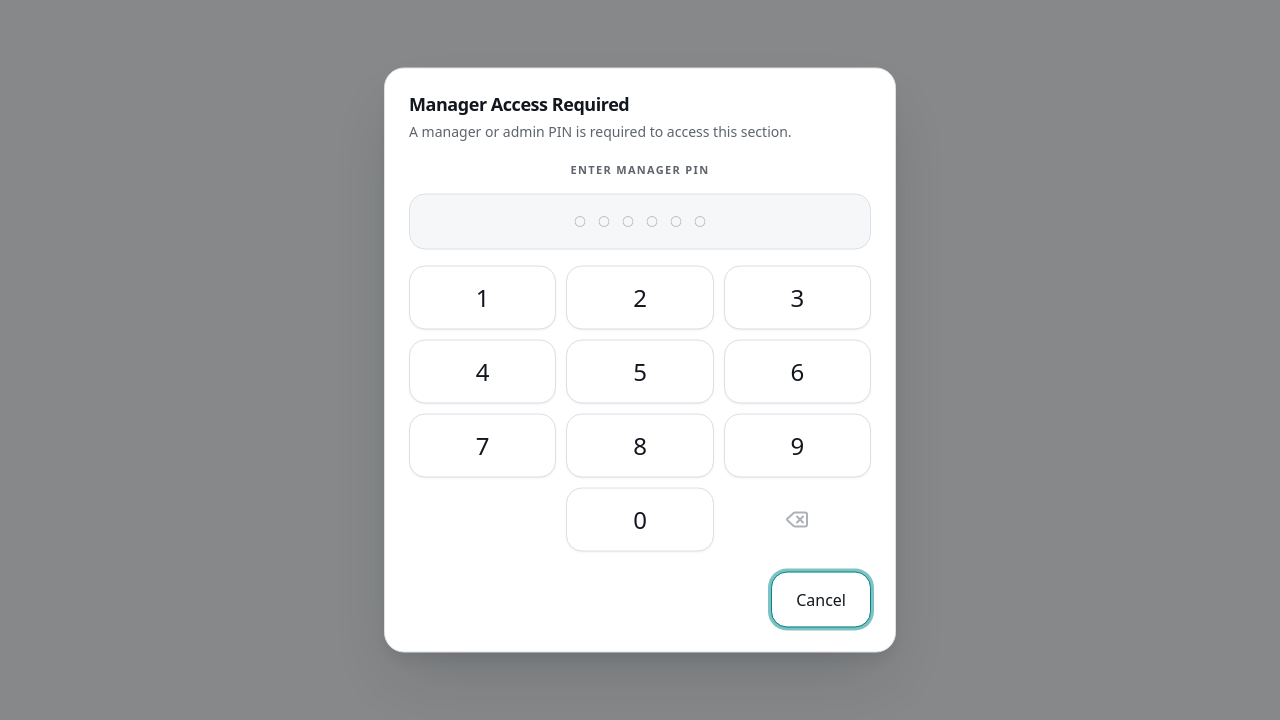
Scenario: ManagerPinDialog › INVALID_PIN with a retry-after already armed shows the lockout message
Click the button named "Key 0": [640, 520] box [566,488,714,552]
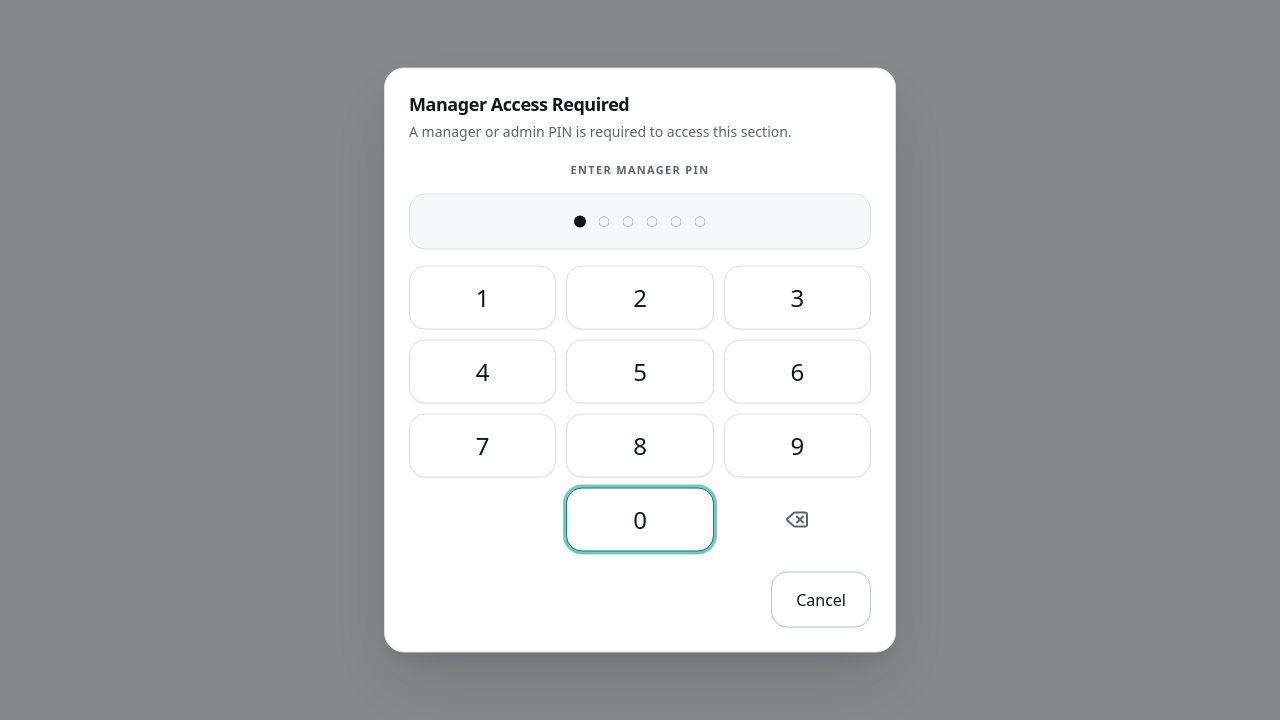
Click the button named "Key 0": [640, 520] box [566,488,714,552]
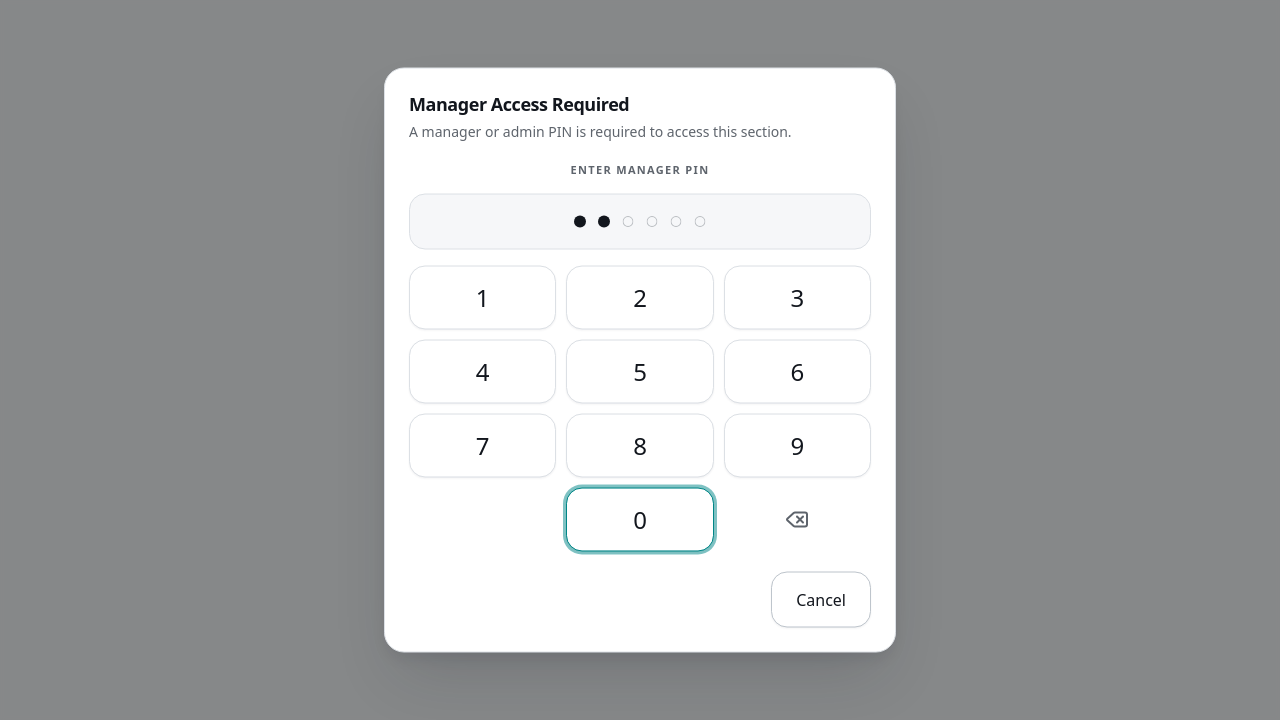
Click the button named "Key 0": [640, 520] box [566,488,714,552]
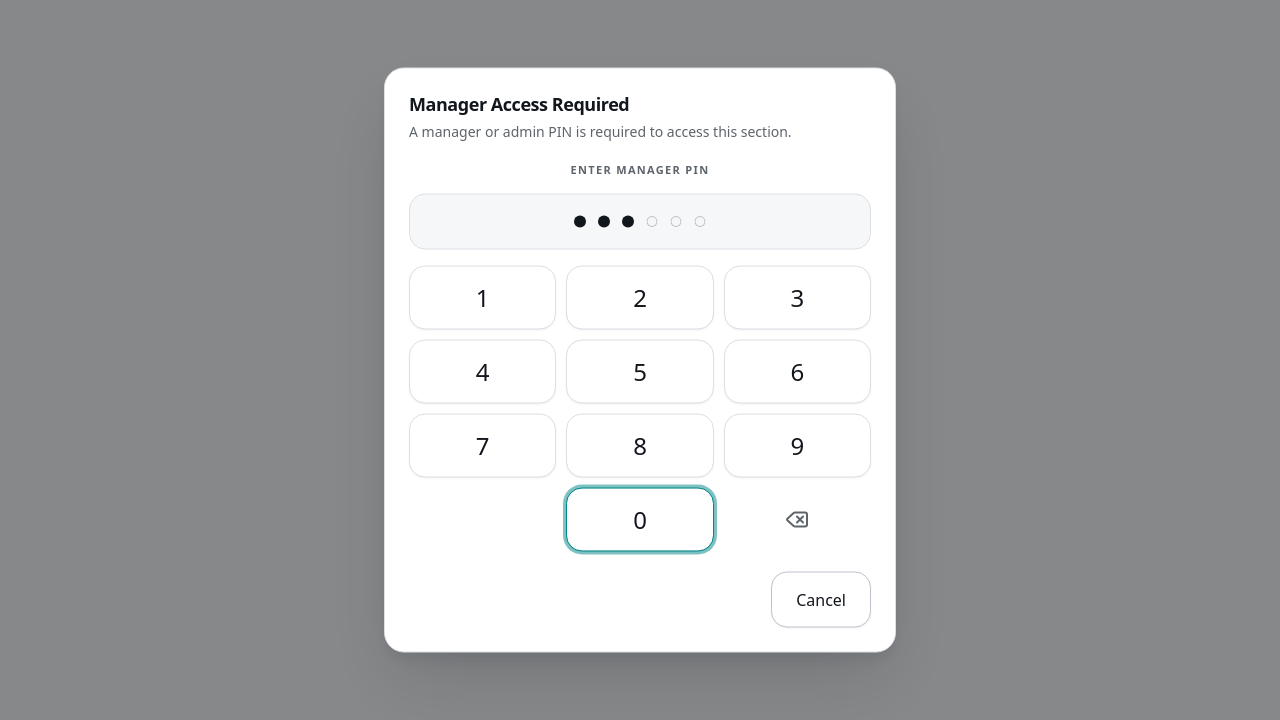
Click the button named "Key 0": [640, 520] box [566,488,714,552]
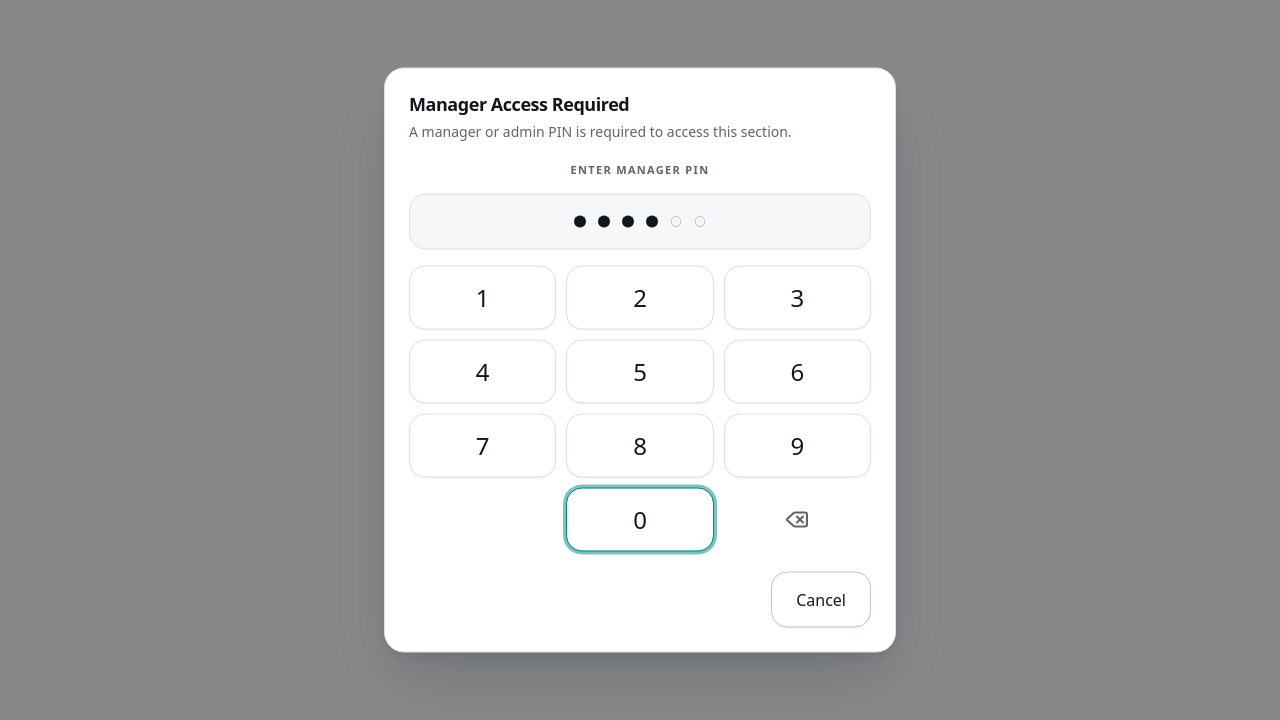
Click the button named "Key 0": [640, 520] box [566,488,714,552]
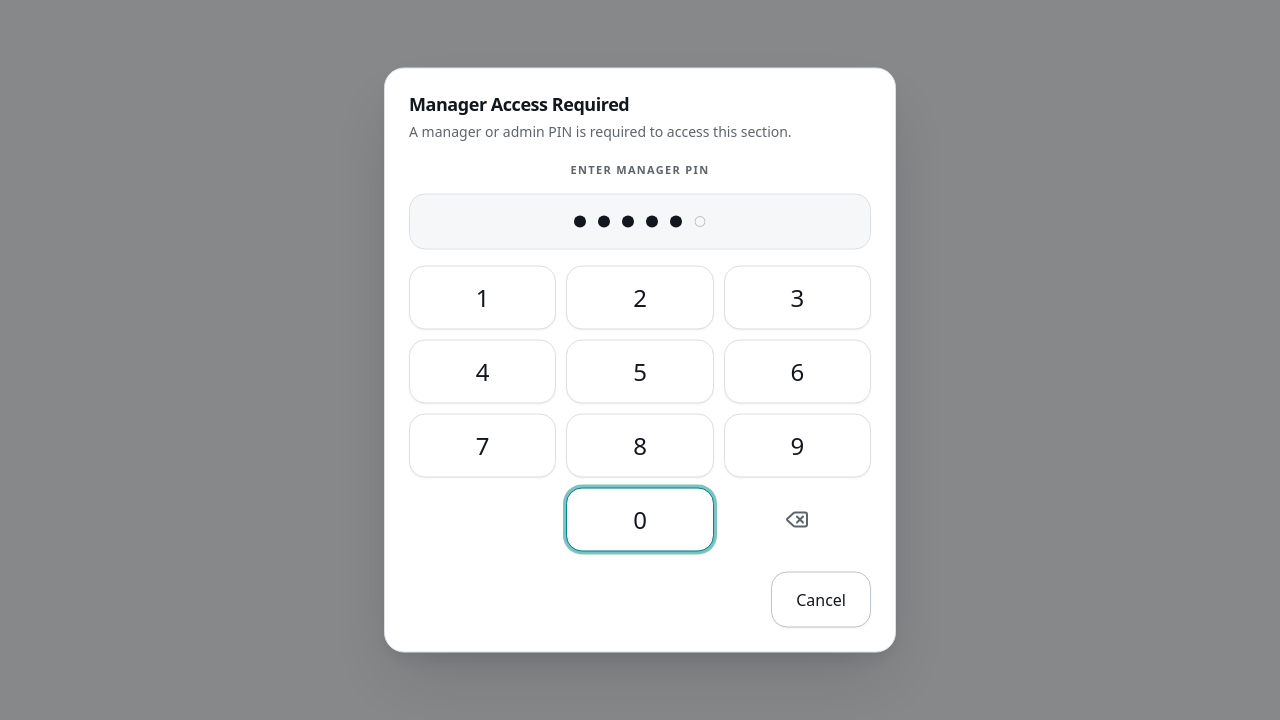
Click the button named "Key 0": [640, 520] box [566,488,714,552]
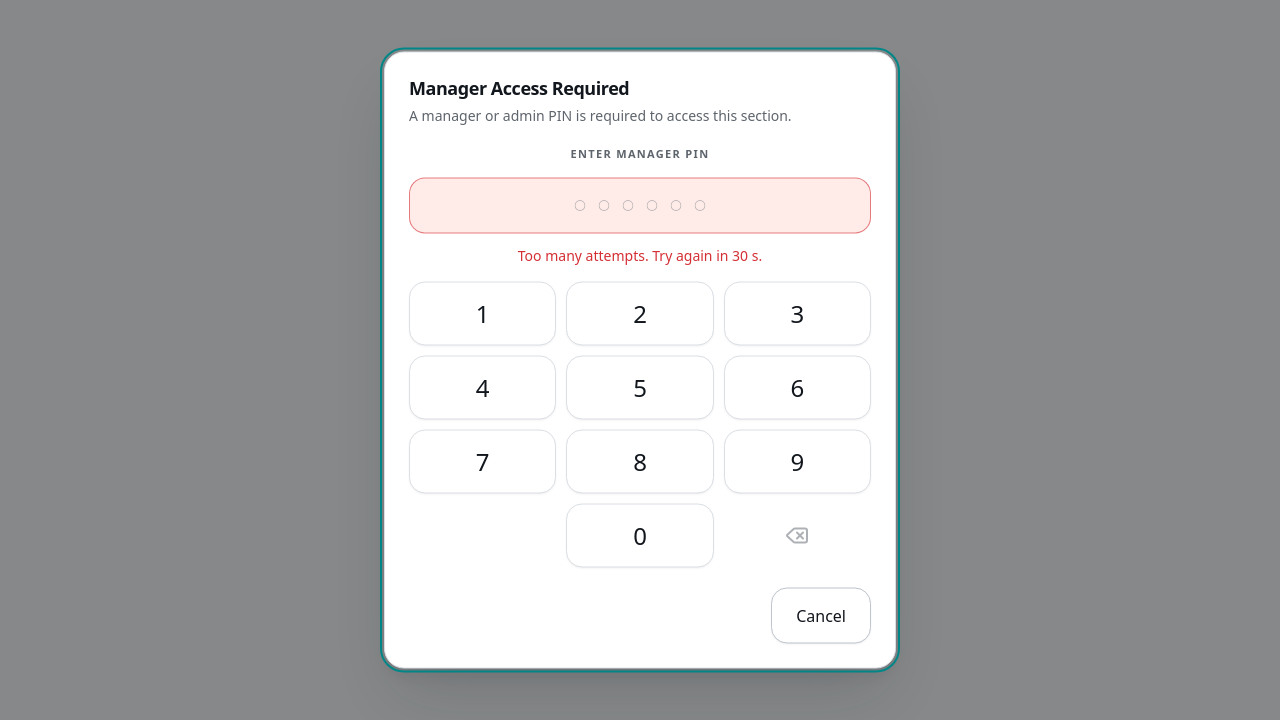
Expected: the text "Too many attempts. Try again in 30 s." is shown, [518,246,762,264]
